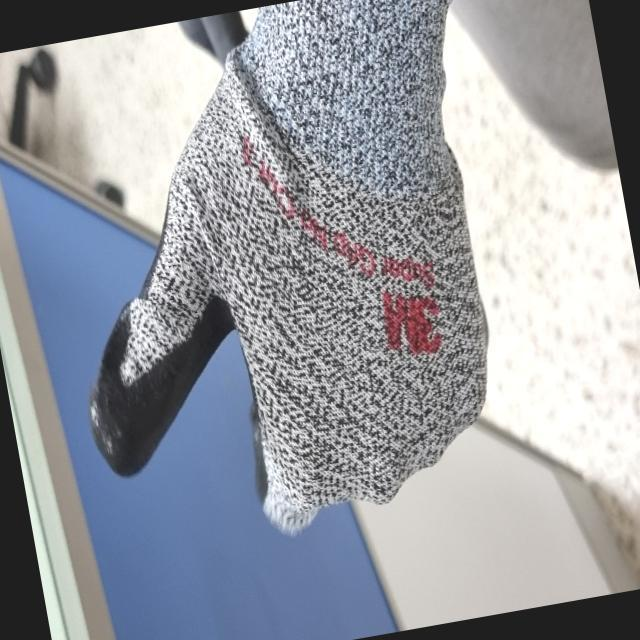Gloves: (92, 2, 489, 525)
